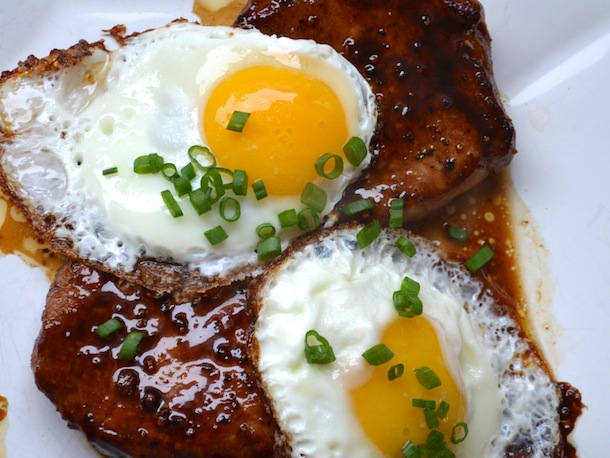fried egg: (34, 18, 370, 275), (257, 246, 573, 454)
